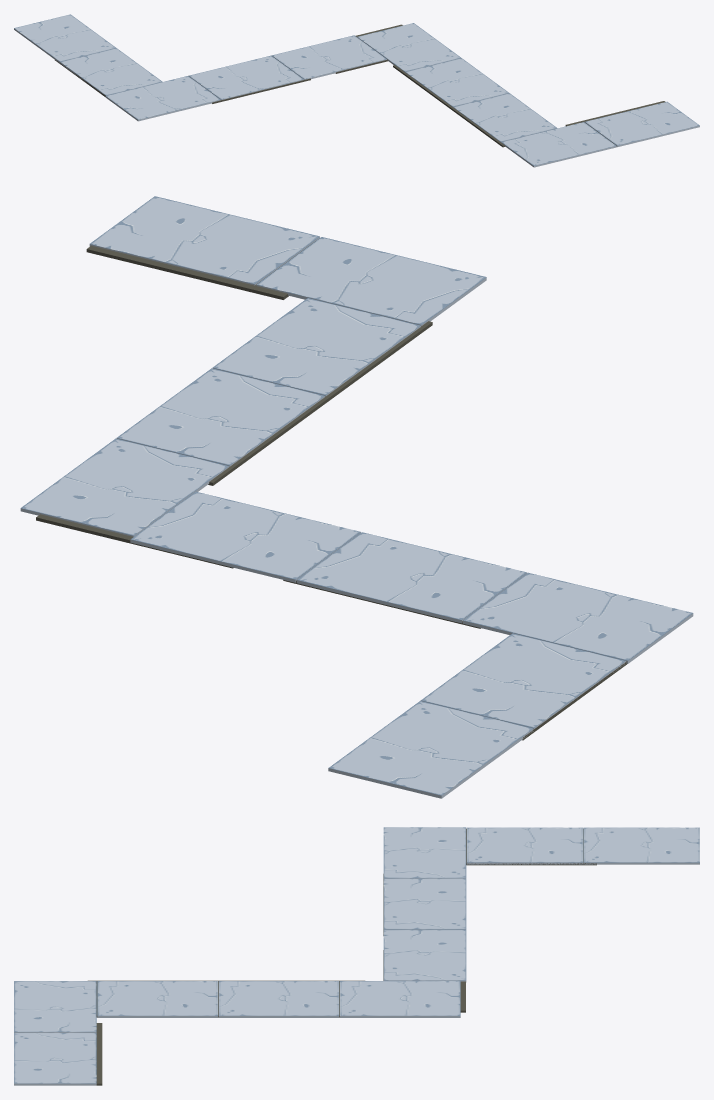
File: trotoar fixed UV.fbx
3 views of the same model, one above another, from view 1: azimuth 30°, elevation 25°; view 2: azimuth 150°, elevation 25°; view 3: azimuth 270°, elevation 25° (orthographic). The views are drawn at different scales.
Parts seen in each view (by area): view 1: Cube.009, Cube.002, Cube.008, Cube.004, Cube.003, Cube.005, Cube.007, Cube.006, Cube, Cube.001; view 2: Cube.003, Cube.004, Cube.002, Cube.009, Cube.005, Cube.008, Cube, Cube.006, Cube.007, Cube.001, Cube.015, Cube.012; view 3: Cube.006, Cube.008, Cube.005, Cube.007, Cube, Cube.001, Cube.004, Cube.003, Cube.002, Cube.009, Cube.015.
Part boxes in pixels (x1=…): Cube.009: x1=501, y1=122, x2=616, y2=167; Cube.002: x1=105, y1=76, x2=220, y2=121; Cube.008: x1=584, y1=101, x2=699, y2=147; Cube.004: x1=271, y1=35, x2=386, y2=79; Cube.003: x1=189, y1=55, x2=303, y2=99; Cube.005: x1=357, y1=23, x2=461, y2=71; Cube.007: x1=453, y1=93, x2=557, y2=142; Cube.006: x1=405, y1=58, x2=509, y2=107; Cube: x1=14, y1=14, x2=116, y2=62; Cube.001: x1=60, y1=48, x2=162, y2=95; Cube.003: x1=296, y1=532, x2=527, y2=623; Cube.004: x1=130, y1=491, x2=360, y2=582; Cube.002: x1=463, y1=572, x2=693, y2=663; Cube.009: x1=256, y1=237, x2=486, y2=326; Cube.005: x1=20, y1=438, x2=229, y2=536; Cube.008: x1=89, y1=196, x2=319, y2=285; Cube: x1=328, y1=701, x2=533, y2=798; Cube.006: x1=116, y1=368, x2=324, y2=466; Cube.007: x1=212, y1=298, x2=420, y2=396; Cube.001: x1=420, y1=633, x2=625, y2=728; Cube.015: x1=86, y1=241, x2=315, y2=299; Cube.012: x1=36, y1=514, x2=233, y2=568; Cube.006: x1=218, y1=981, x2=339, y2=1017; Cube.008: x1=14, y1=1032, x2=96, y2=1085; Cube.005: x1=340, y1=981, x2=460, y2=1017; Cube.007: x1=97, y1=981, x2=217, y2=1017; Cube: x1=583, y1=827, x2=699, y2=864; Cube.001: x1=467, y1=827, x2=583, y2=864; Cube.004: x1=383, y1=929, x2=466, y2=982; Cube.003: x1=383, y1=878, x2=466, y2=929; Cube.002: x1=383, y1=827, x2=466, y2=878; Cube.009: x1=14, y1=981, x2=96, y2=1032; Cube.015: x1=96, y1=1023, x2=102, y2=1085.
Size of the model in its own units: 2678 by 13.68 by 3029.
